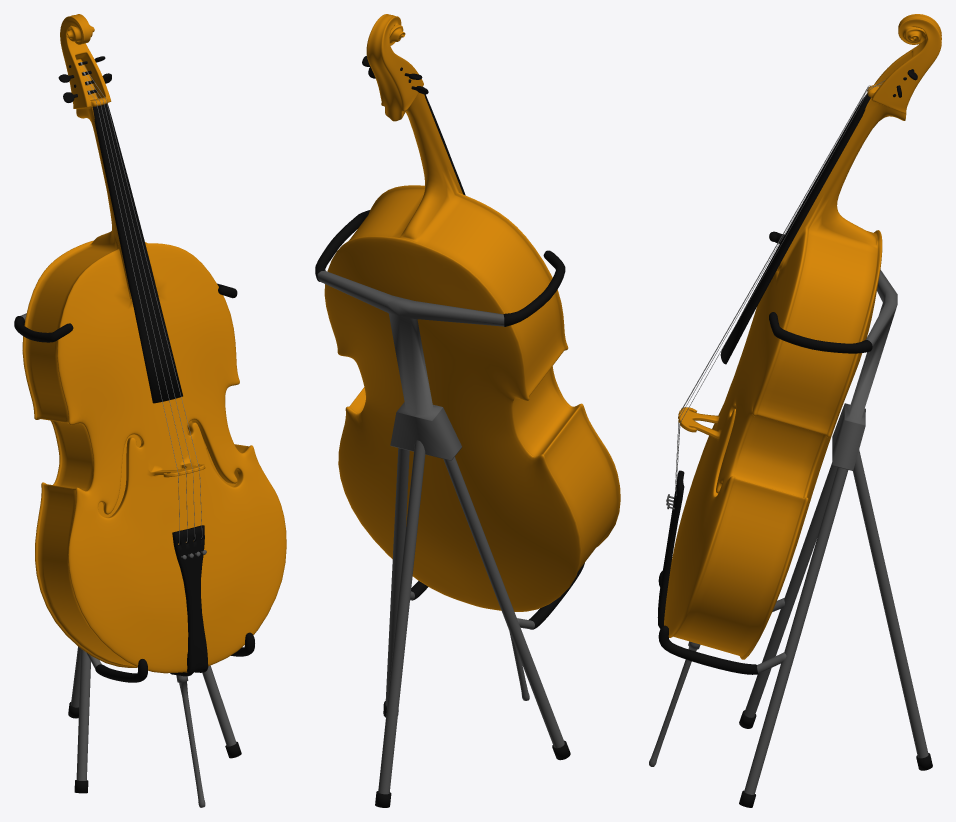
Rendered from cello.fbx.
3 views of the same model, side by side, from view 1: azimuth 30°, elevation 25°; view 2: azimuth 150°, elevation 25°; view 3: azimuth 270°, elevation 25° (orthographic). The views are drawn at different scales.
Parts seen in each view (by area): view 1: cello_body_cello_body; view 2: cello_body_cello_body; view 3: cello_body_cello_body.
Part boxes in pixels (bbox=[...]): cello_body_cello_body: bbox=[14, 14, 286, 807]; cello_body_cello_body: bbox=[315, 14, 620, 807]; cello_body_cello_body: bbox=[649, 14, 941, 807].
Bounding box in the file's own units: 1.41 × 4.41 × 1.55.
